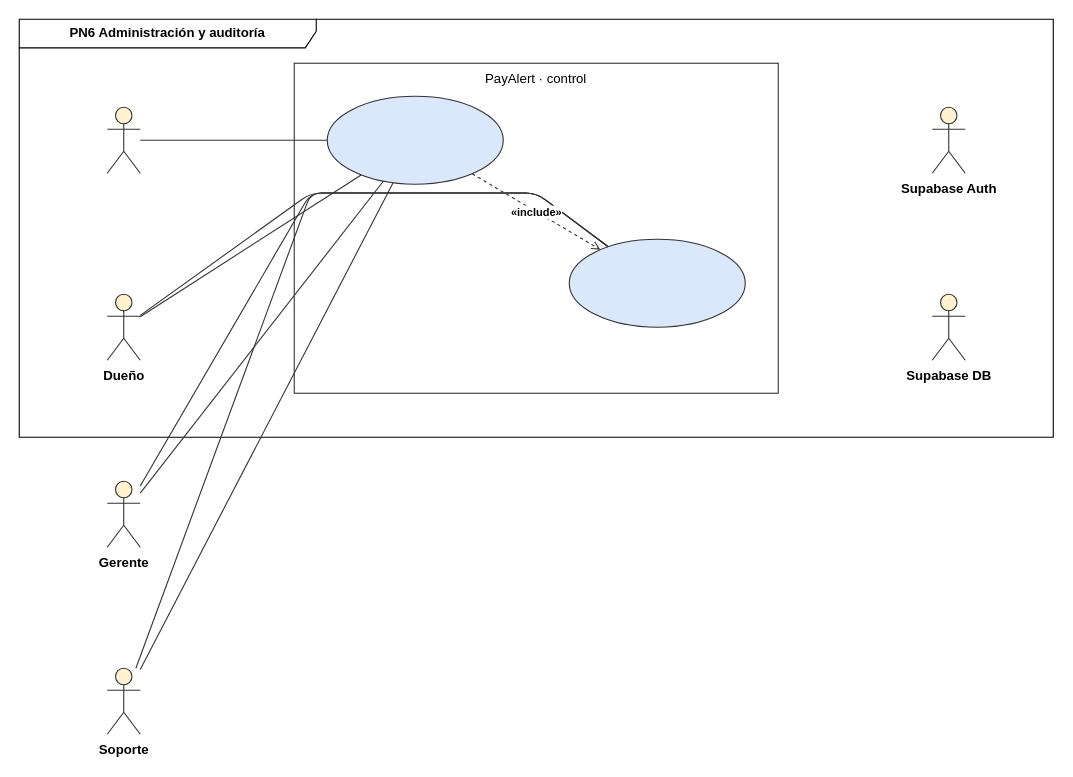
The diagram is 1073 pixels wide and 777 high, and some of its shapes have lost their labels. The shapes that lost their labels are listed below. From the top down, each one's centre as x and y in pixels, then its label:
(x=123, y=139): Cajero
(x=414, y=139): CU-08 Aplicar permisos
(x=656, y=282): CU-09 Registrar/consultar auditoría
